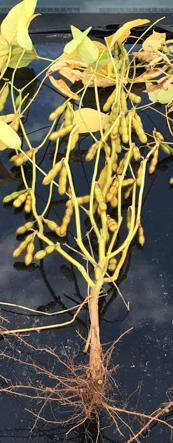soja: (39, 158, 66, 187), (43, 221, 66, 244), (130, 114, 147, 145), (59, 201, 74, 236), (11, 234, 31, 259), (1, 187, 28, 204), (93, 183, 108, 212), (104, 87, 120, 114), (34, 246, 58, 263), (11, 220, 38, 235), (15, 153, 37, 170), (9, 192, 28, 211), (48, 126, 75, 139), (105, 183, 123, 202), (149, 148, 161, 176), (43, 105, 66, 119), (24, 243, 34, 271), (7, 150, 27, 164), (86, 142, 100, 162), (69, 132, 82, 153), (126, 90, 143, 106), (1, 86, 11, 113), (60, 168, 69, 198), (138, 227, 149, 250), (26, 196, 37, 217), (107, 254, 119, 273), (12, 117, 24, 135), (160, 142, 172, 160), (106, 216, 118, 233), (65, 107, 76, 125), (71, 197, 94, 205), (123, 119, 131, 142), (114, 138, 125, 154), (126, 209, 133, 234), (133, 145, 142, 163), (137, 161, 143, 188), (113, 119, 122, 137), (115, 163, 127, 176), (14, 95, 25, 109), (104, 144, 114, 158), (108, 198, 119, 209), (126, 186, 134, 200)
